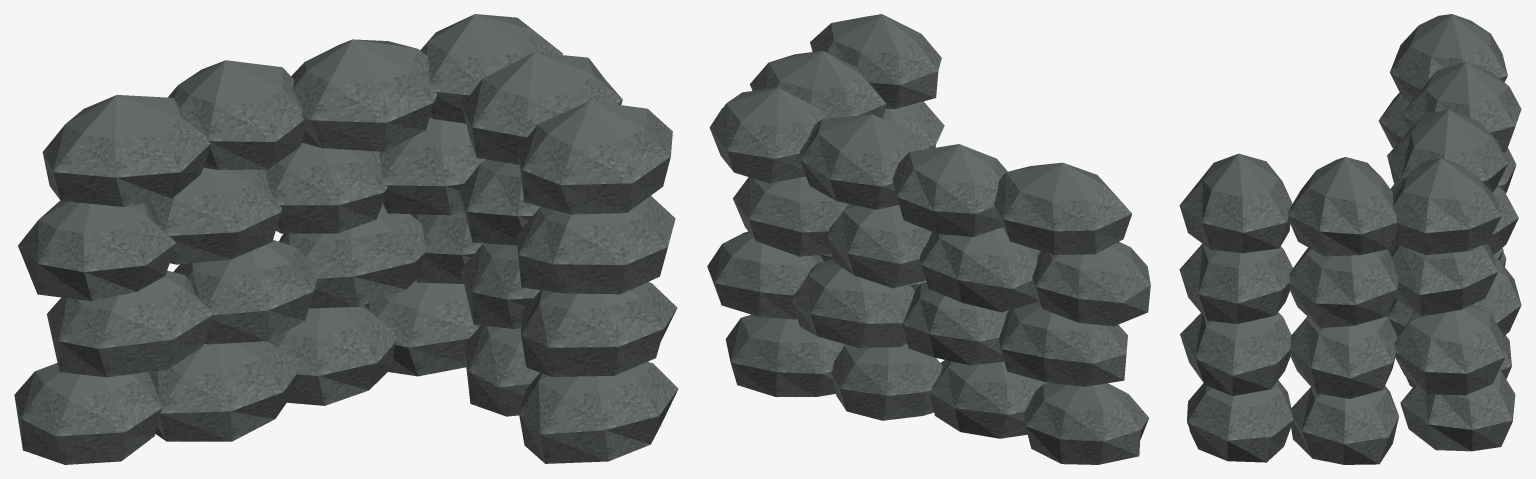
Rendered from en-012_rock_wall_module__corner.obj.
The picture shows the model from 3 angles, left to right: view 1: azimuth 30°, elevation 25°; view 2: azimuth 150°, elevation 25°; view 3: azimuth 270°, elevation 25°; orthographic projection. The views are drawn at different scales.
Visible parts, largest first — view 1: en-012_rock_wall_module__corner; view 2: en-012_rock_wall_module__corner; view 3: en-012_rock_wall_module__corner.
Boxes of the visible parts, bbox=[...] form: en-012_rock_wall_module__corner: bbox=[14, 14, 678, 464]; en-012_rock_wall_module__corner: bbox=[707, 14, 1150, 464]; en-012_rock_wall_module__corner: bbox=[1179, 14, 1521, 464].
Size of the model in its own units: 2.81 by 1.72 by 1.87.
1 material, 1 textured.
